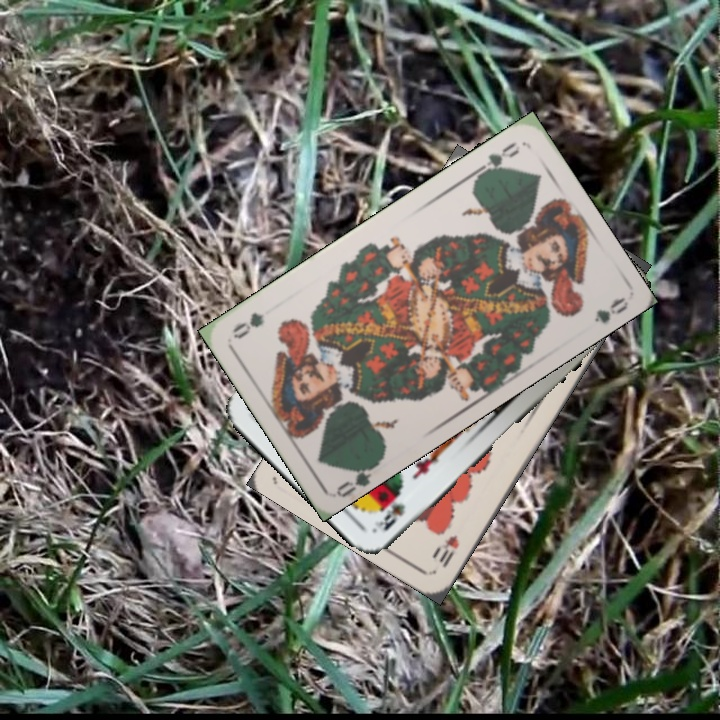GO: (332, 456, 384, 499), (470, 137, 523, 179)
H10: (428, 531, 462, 570)
SK: (370, 498, 408, 534)
